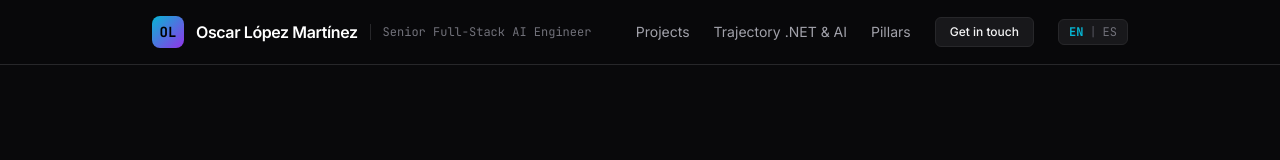
Test: Header & Language Switcher (Seam 3) › toggles language to Spanish when switcher is clicked, updating navigation reactively
Expected: the link "Projects" is shown, x1=636 y1=22 x2=690 y2=42
# Click toggle
Click the button "EN | ES". click: (1093, 32)
box: x1=1058 y1=19 x2=1128 y2=45
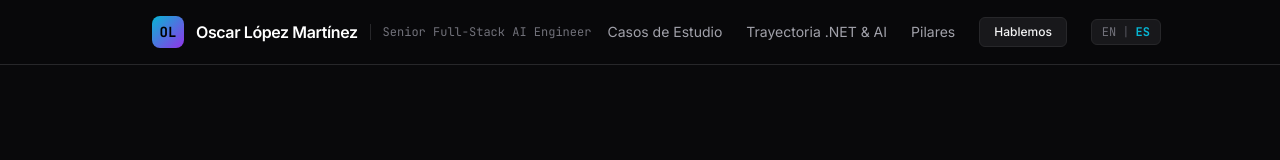
Expected: the link "Casos de Estudio" is shown, x1=607 y1=22 x2=722 y2=42
Expected: the link "Trayectoria .NET & AI" is shown, x1=746 y1=22 x2=887 y2=42
Expected: the link "Pilares" is shown, x1=911 y1=22 x2=955 y2=42
# Click toggle again to return to English
Click the button "EN | ES". click: (1126, 32)
box: x1=1091 y1=19 x2=1161 y2=45
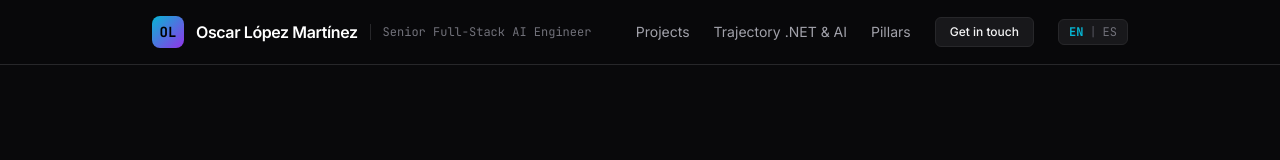
Expected: the link "Projects" is shown, x1=636 y1=22 x2=690 y2=42
Expected: the link "Get in touch" is shown, x1=935 y1=17 x2=1034 y2=47
